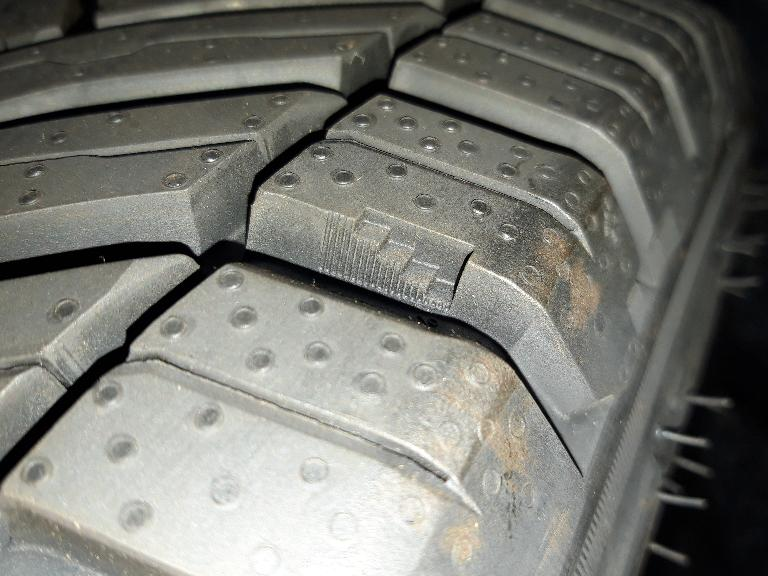temoin:100: (312, 196, 484, 324)
